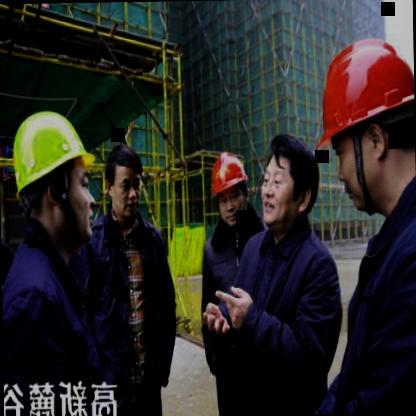head: (256, 131, 324, 239), (102, 140, 146, 226)
helmet: (315, 31, 416, 218), (10, 106, 96, 252), (208, 148, 250, 230)
